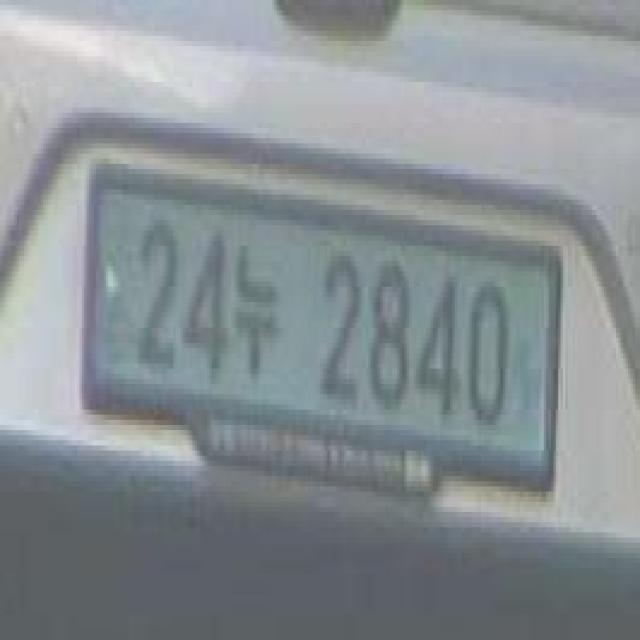EV_plate: (78, 143, 567, 532)
